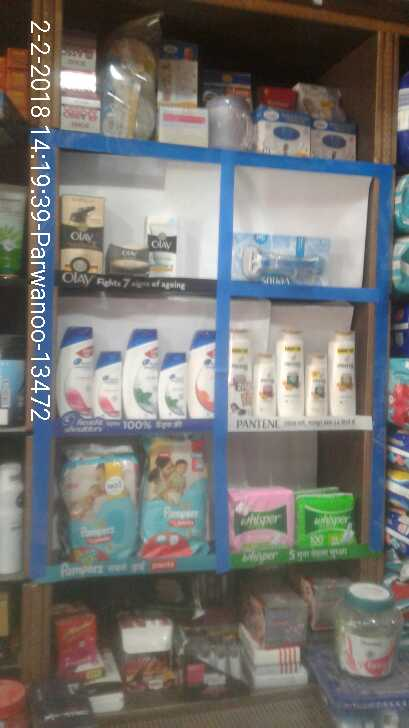venus: (236, 235, 336, 283)
